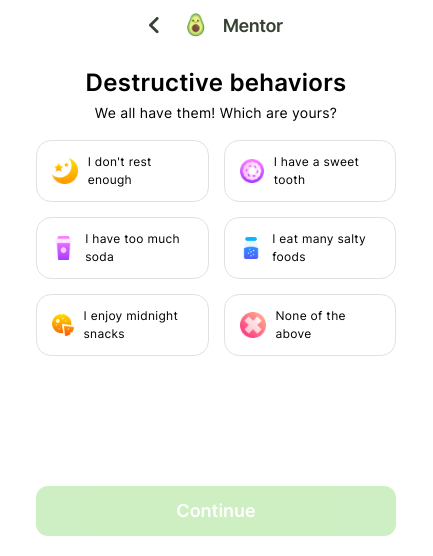
Tests for Header › goes to Measurement page with clicking back button being at Behaviors page
This screenshot has width=433, height=556.
What coordinates should you click on to do the following:
click the button with test id "back"
I would click on:
 (154, 25)
Its box is 149,10 -> 159,40.
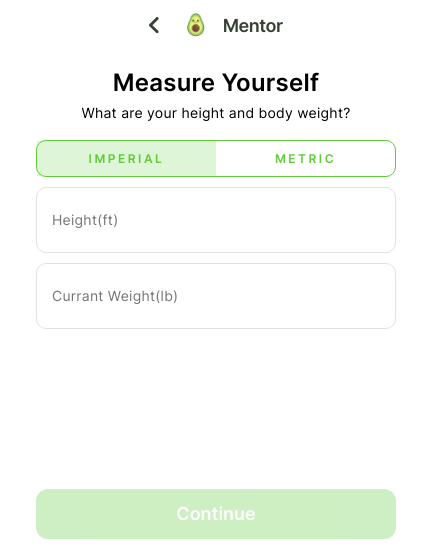
Result: the element with test id "measurement" is shown
